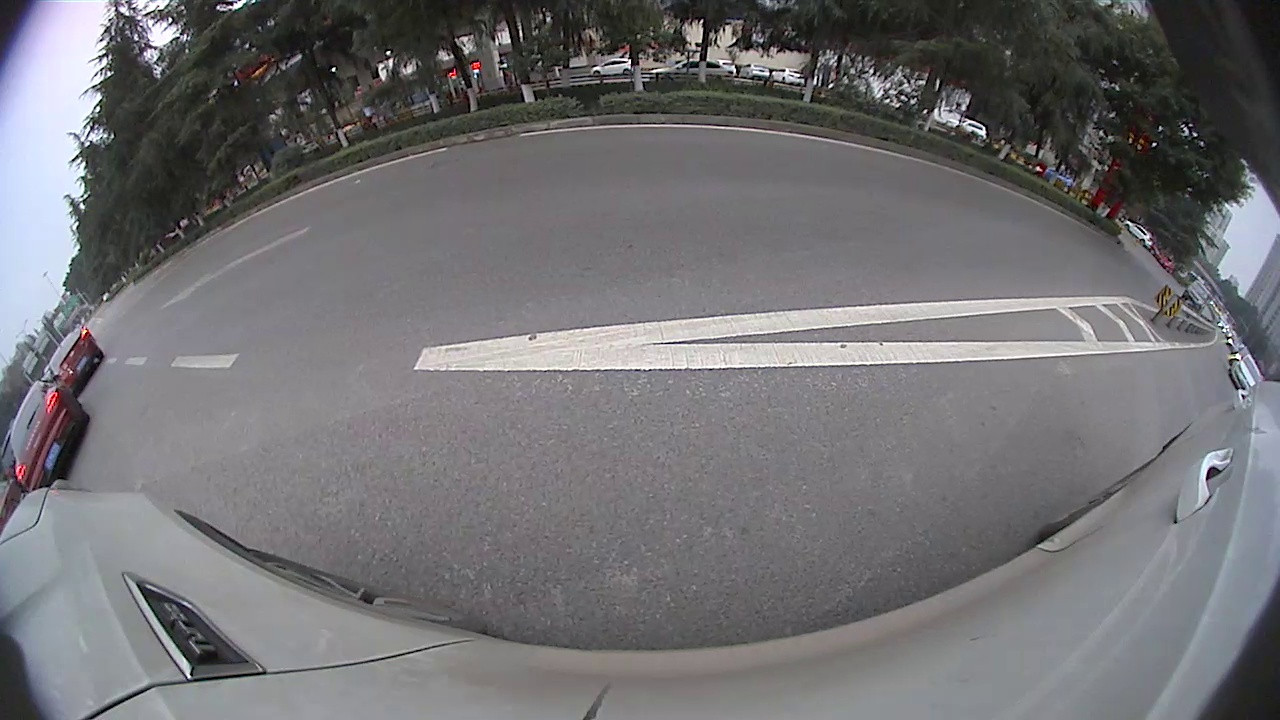car: (10, 383, 88, 494), (52, 333, 103, 397)
